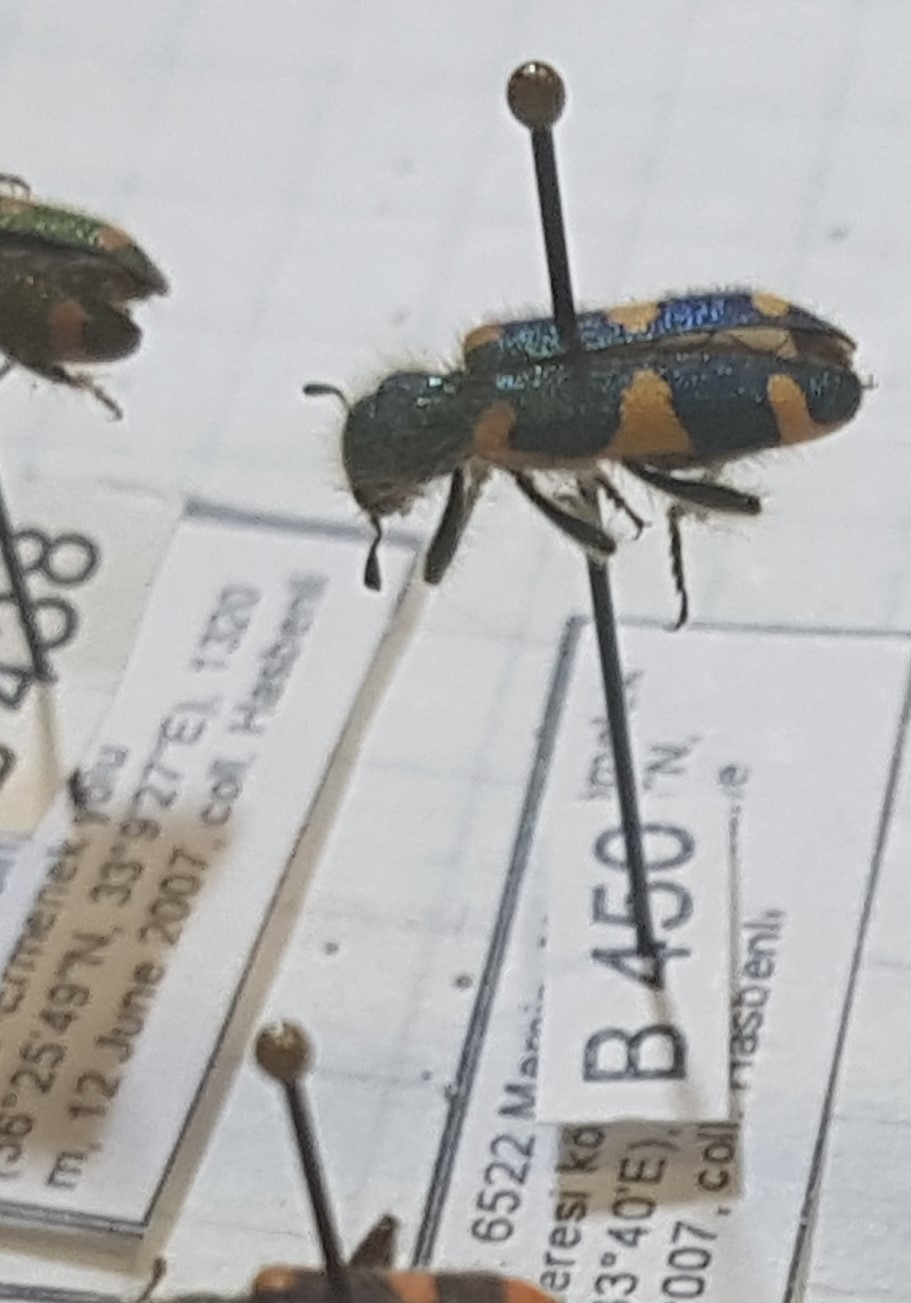trichodes_holtzi: (297, 270, 880, 646)
